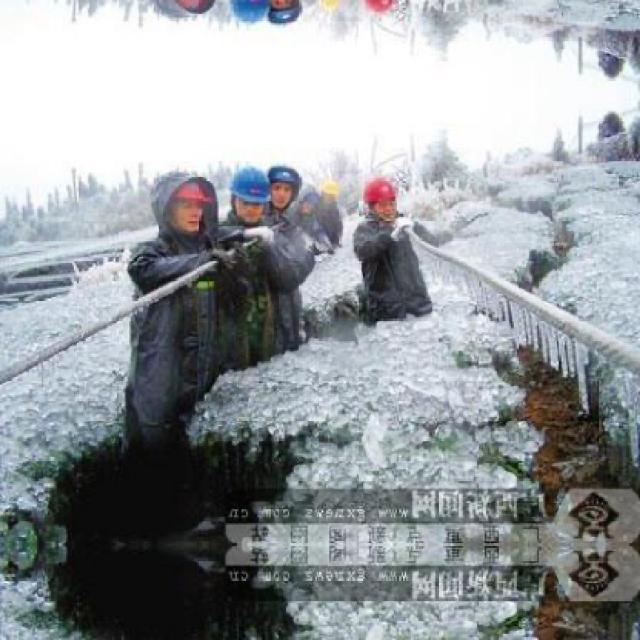helmet: (165, 172, 217, 232), (226, 160, 271, 222), (263, 158, 303, 208), (361, 172, 397, 220), (226, 0, 272, 29), (262, 0, 303, 31), (163, 0, 217, 17), (362, 0, 398, 17), (320, 177, 342, 203), (319, 0, 342, 12)
